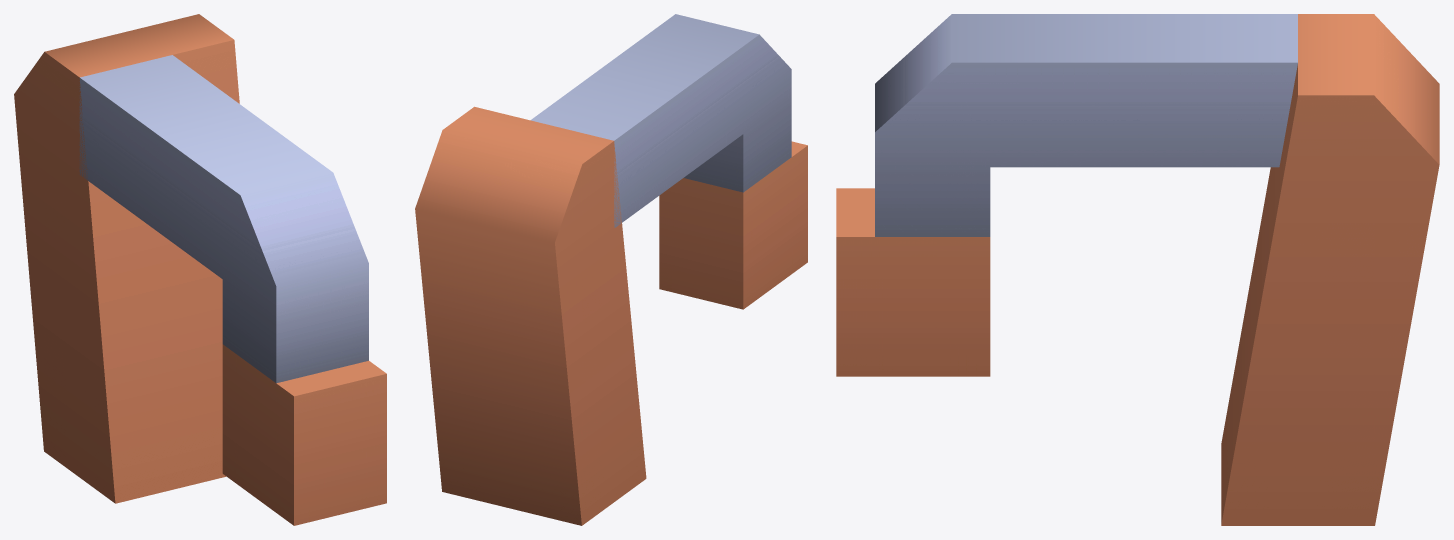
File: aid-hearing.glb
3 views of the same model, side by side, from view 1: azimuth 30°, elevation 25°; view 2: azimuth 150°, elevation 25°; view 3: azimuth 270°, elevation 25° (orthographic). The views are drawn at different scales.
Parts seen in each view (by area): view 1: aid_hearing; view 2: aid_hearing; view 3: aid_hearing.
Boxes of the visible parts, box(x1,y1,x2,y2) form: aid_hearing: box(14, 14, 386, 525); aid_hearing: box(415, 14, 807, 525); aid_hearing: box(836, 14, 1439, 525).
Bounding box in the file's own units: 0.05 × 0.1235 × 0.1568.
Materials: 1 (1 with a texture image).
